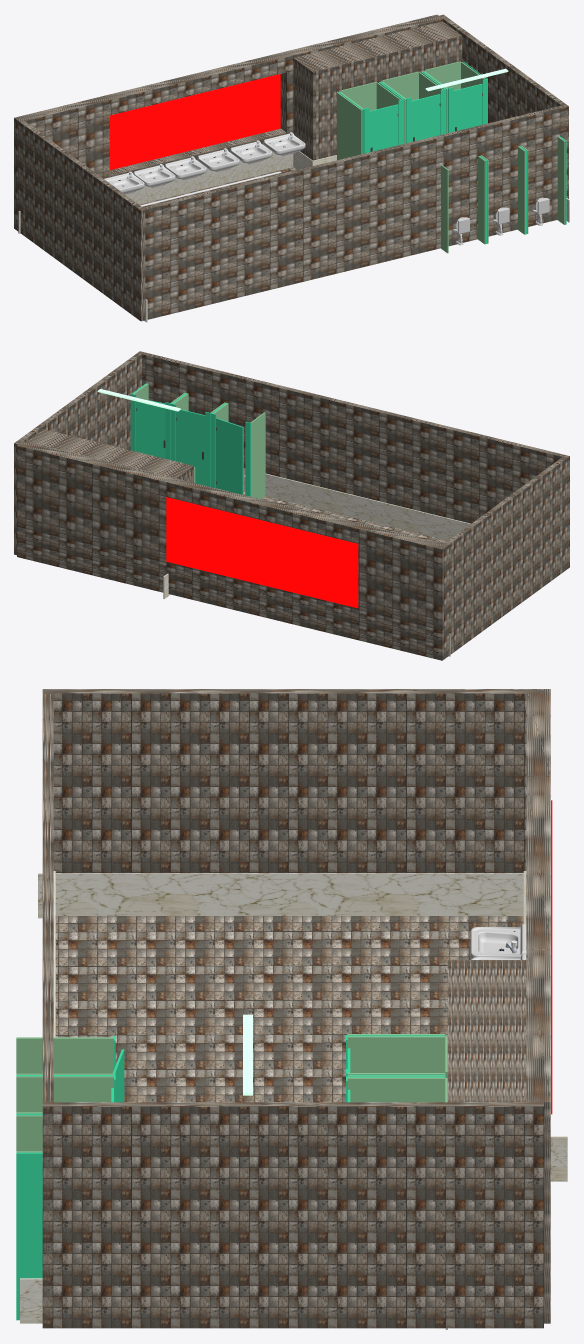
File: get_a_bunch.glb
The picture shows the model from 3 angles, top to bottom: view 1: azimuth 30°, elevation 25°; view 2: azimuth 150°, elevation 25°; view 3: azimuth 270°, elevation 25°; orthographic projection. The views are drawn at different scales.
Parts seen in each view (by area): view 1: Cube.044_3, Cube.045_4, Cube.046_5, Cube.042_1, Cube.048_7, Cube.043_2, Cube.050_9, Cube.015_98, Cube.016_99, Cube.002_93, Cube.018_87, Cube.047_6 (+15 smaller); view 2: Cube.046_5, Cube.044_3, Cube.045_4, Cube.048_7, Cube.043_2, Cube.051_10, Cube.042_1, Cube.028_33, Cube.036_40, Cube.061_48, Cube.029_34, Plane_0 (+3 smaller); view 3: Cube.043_2, Cube.045_4, Plane_0, Cube.049_8, Cube.046_5, Cube.042_1, Cube.044_3, Cube.067_52, Cube.078_80, Cube.029_34, Cube.037_41, Cube.008_74 (+5 smaller).
Part boxes in pixels (<box>): Cube.044_3: <box>143,104,568,319</box>; Cube.045_4: <box>15,118,145,321</box>; Cube.046_5: <box>14,14,443,229</box>; Cube.042_1: <box>293,21,462,160</box>; Cube.048_7: <box>109,74,280,170</box>; Cube.043_2: <box>439,14,568,198</box>; Cube.050_9: <box>18,152,293,233</box>; Cube.015_98: <box>337,92,362,159</box>; Cube.016_99: <box>369,104,398,152</box>; Cube.002_93: <box>411,94,440,141</box>; Cube.018_87: <box>453,84,482,131</box>; Cube.047_6: <box>109,128,286,175</box>; Cube.046_5: <box>17,441,443,660</box>; Cube.044_3: <box>138,351,564,523</box>; Cube.045_4: <box>440,455,569,659</box>; Cube.048_7: <box>166,497,358,608</box>; Cube.043_2: <box>14,351,143,555</box>; Cube.051_10: <box>243,468,470,540</box>; Cube.042_1: <box>26,429,193,482</box>; Cube.028_33: <box>216,418,243,494</box>; Cube.036_40: <box>176,409,205,485</box>; Cube.061_48: <box>136,399,165,458</box>; Cube.029_34: <box>251,412,265,498</box>; Plane_0: <box>243,491,447,543</box>; Cube.043_2: <box>42,1102,543,1328</box>; Cube.045_4: <box>42,689,543,873</box>; Plane_0: <box>55,916,523,1102</box>; Cube.049_8: <box>38,873,523,918</box>; Cube.046_5: <box>526,689,550,1323</box>; Cube.042_1: <box>447,960,526,1102</box>; Cube.044_3: <box>42,693,53,1328</box>; Cube.067_52: <box>16,1152,42,1320</box>; Cube.078_80: <box>347,1036,445,1072</box>; Cube.029_34: <box>16,1037,113,1073</box>; Cube.037_41: <box>16,1076,113,1112</box>; Cube.008_74: <box>347,1077,445,1102</box>.
Bounding box in the file's own units: 40.59 × 10.35 × 22.56.
23 materials, 9 textured.
